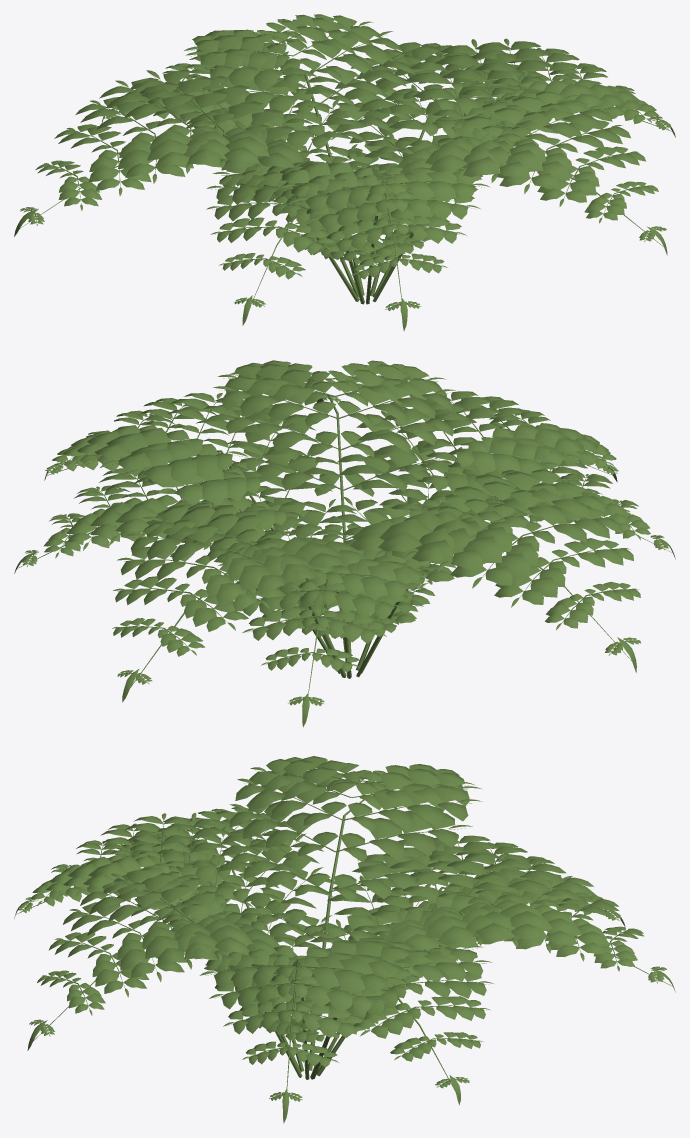
The model's file is corealm_fern_1.glb.
3 views of the same model, one above another, from view 1: azimuth 30°, elevation 25°; view 2: azimuth 150°, elevation 25°; view 3: azimuth 270°, elevation 25° (orthographic). The views are drawn at different scales.
Parts seen in each view (by area): view 1: corealm_fern_1; view 2: corealm_fern_1; view 3: corealm_fern_1.
Part boxes in pixels (x1,y1,x2,y2): corealm_fern_1: (14, 14, 675, 330); corealm_fern_1: (14, 360, 675, 727); corealm_fern_1: (14, 756, 675, 1123).
Size of the model in its own units: 1.92 by 0.6294 by 1.77.
